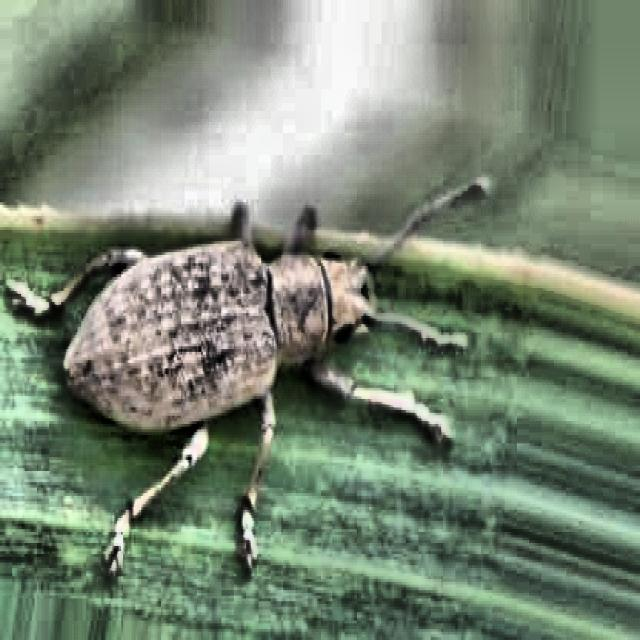Stink bug: (37, 64, 441, 518)
